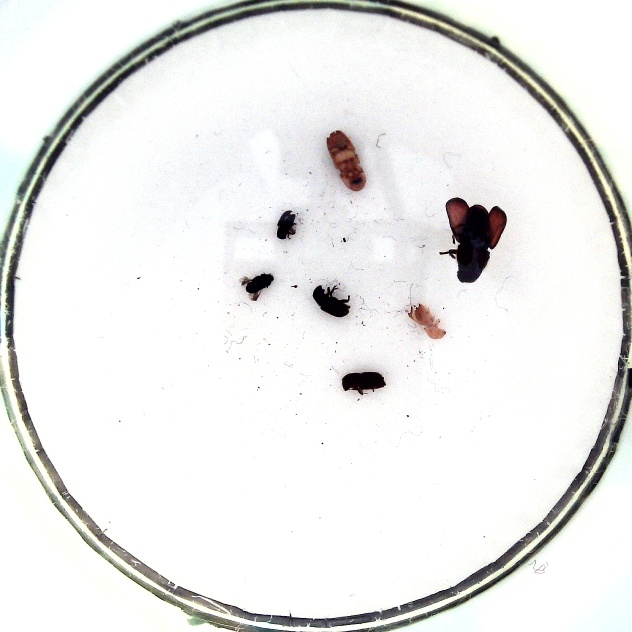acuminatus: (245, 273, 274, 294)
armandi: (313, 285, 350, 317)
boerner: (327, 130, 366, 191)
coleoptera: (276, 209, 295, 239)
leconte: (455, 204, 490, 282)
linnaeus: (407, 303, 445, 339), (341, 371, 386, 391)
